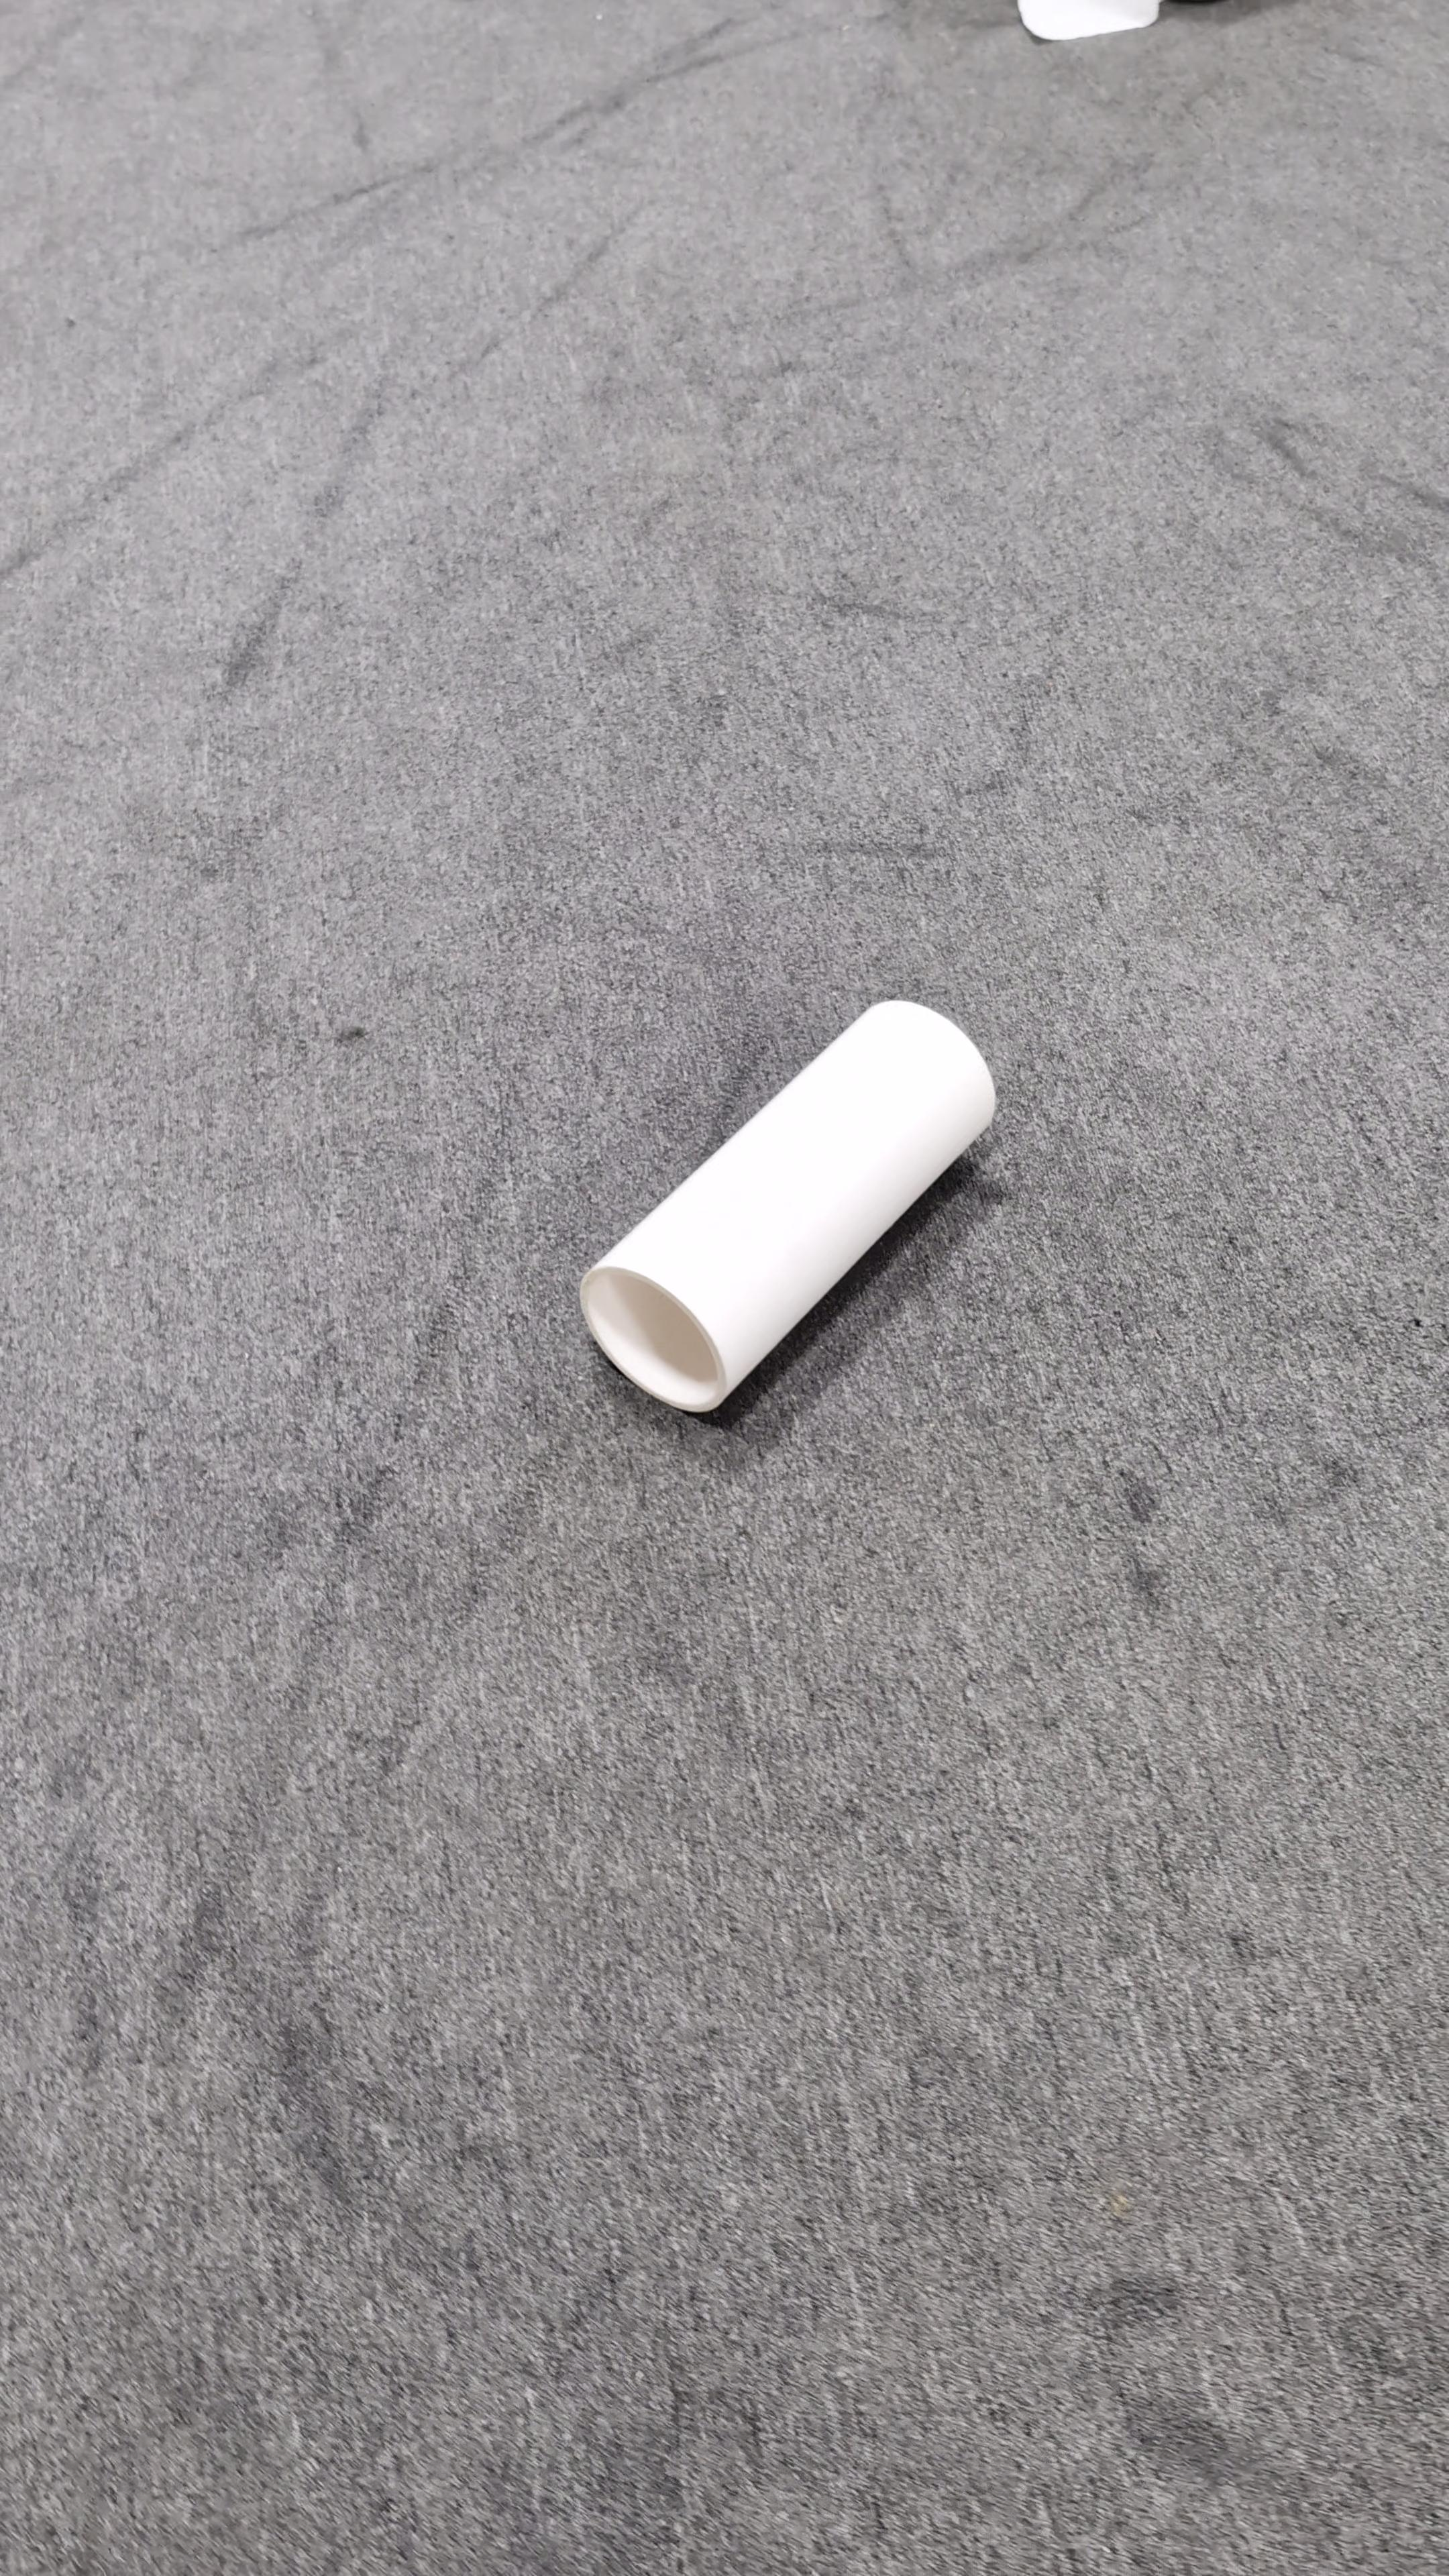coral: (577, 994, 1000, 1414)
